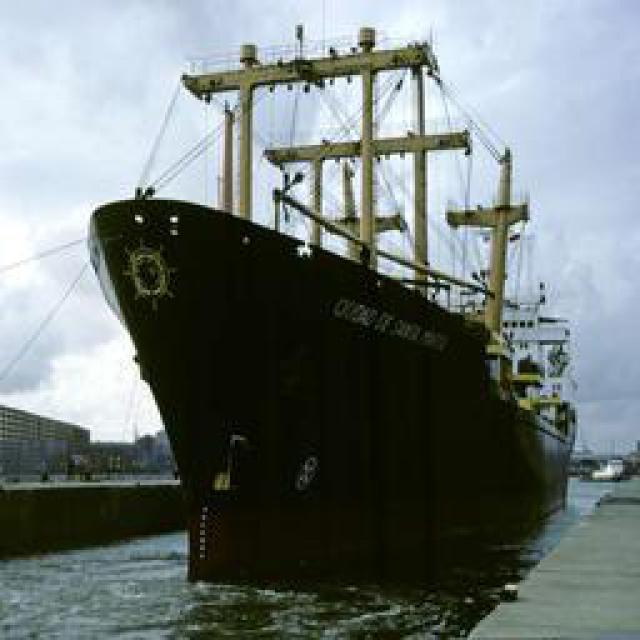Ship: (76, 17, 566, 610)
